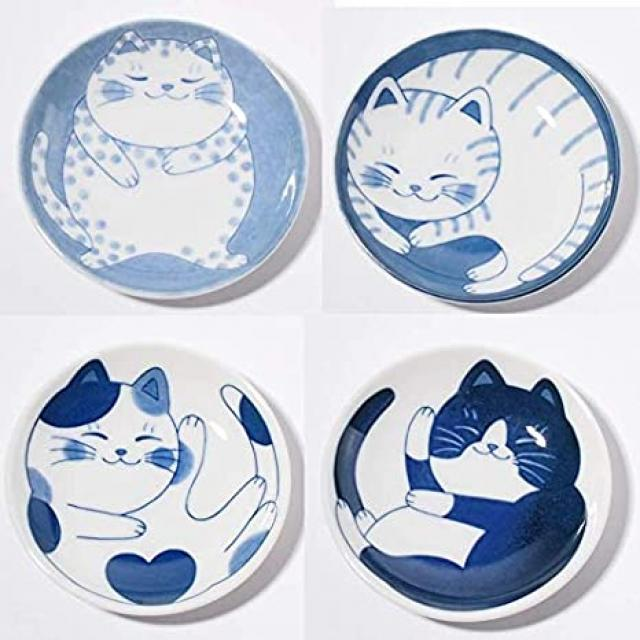non-organic waste: (316, 334, 622, 640), (341, 14, 626, 323), (23, 26, 316, 293)
